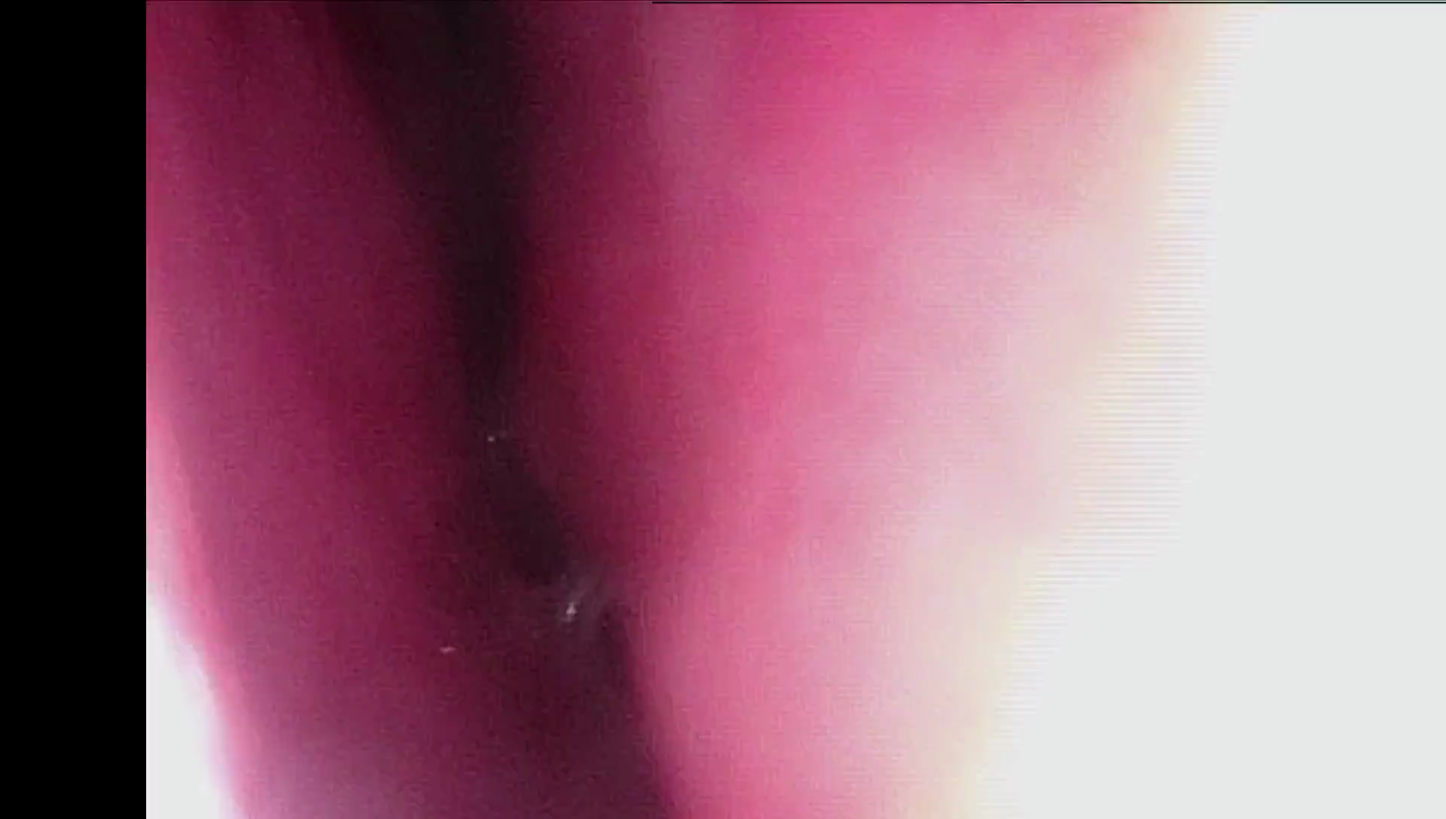close_wall: (719, 10, 1446, 819), (152, 367, 331, 819)
next: (417, 138, 542, 430)
